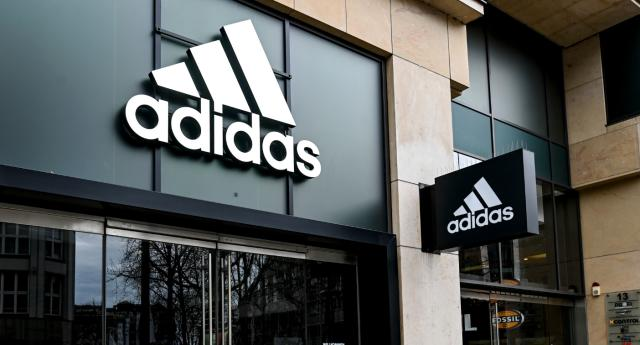Adidas: (85, 12, 342, 196), (439, 161, 520, 240)
